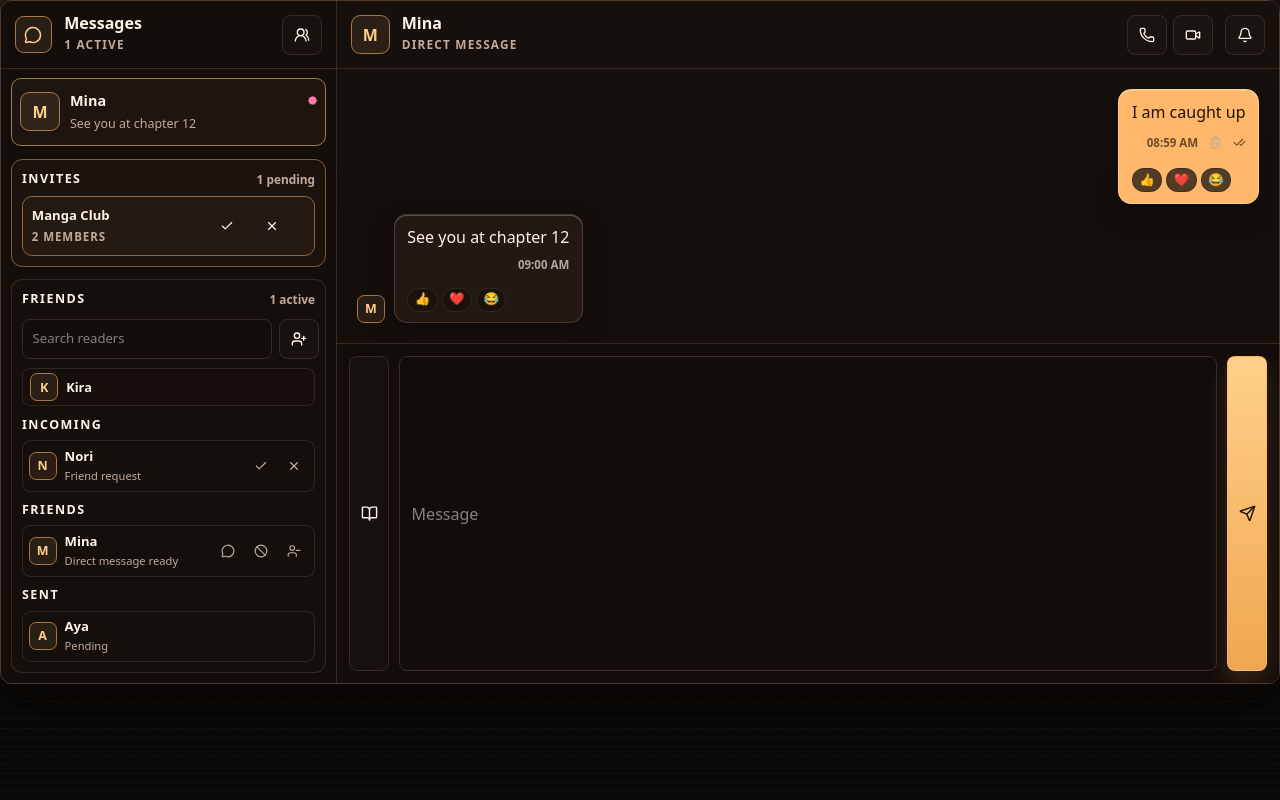
Scenario: SocialChatPage › accepts an incoming group invite from the sidebar
The width and height of the screenshot is (1280, 800).
Expected: the text "Manga Club" is shown, [32,206,110,224]
Click the button named "Accept invite to Manga Club".
click(240, 226)  # box [220,206,260,246]
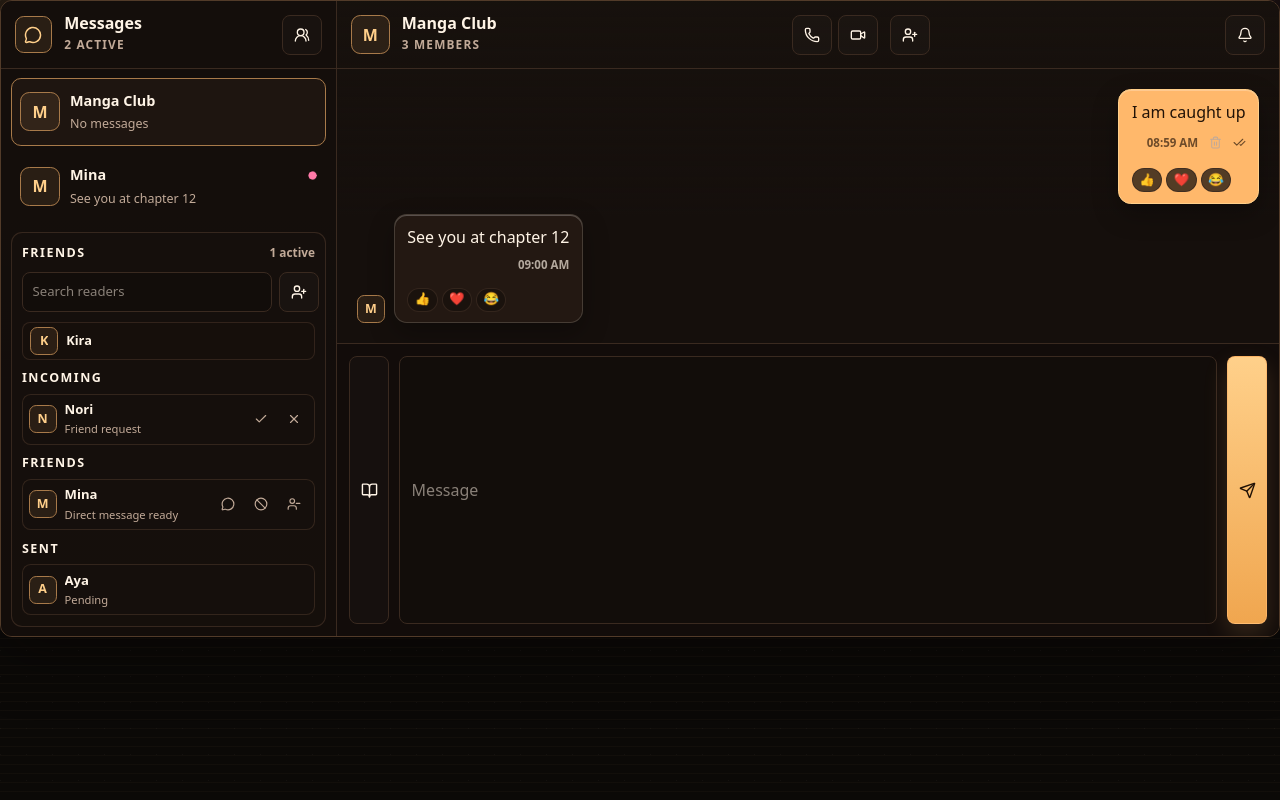
Expected: the heading "Manga Club" is shown, [402,15,497,33]
